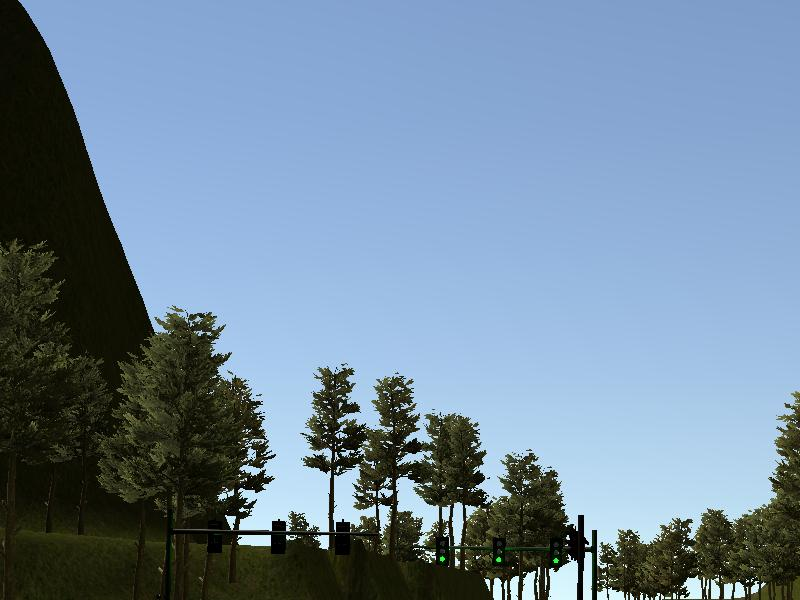Green: (436, 537, 449, 564), (548, 538, 560, 566), (492, 538, 504, 564)
